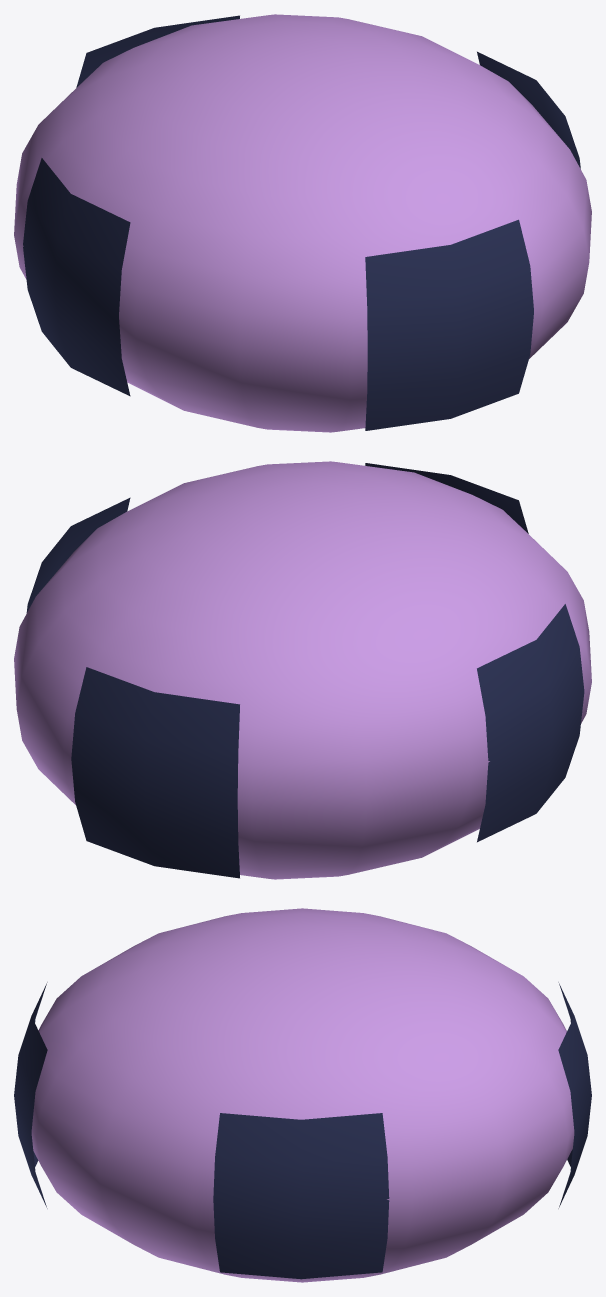
Rendered from hudun.fbx.
3 views of the same model, one above another, from view 1: azimuth 30°, elevation 25°; view 2: azimuth 150°, elevation 25°; view 3: azimuth 270°, elevation 25° (orthographic). The views are drawn at different scales.
Visible parts, largest first — view 1: hudun1, hudun2; view 2: hudun1, hudun2; view 3: hudun1, hudun2.
Boxes of the visible parts, x1,y1,x2,y2 form: hudun1: [14, 14, 591, 432]; hudun2: [23, 15, 580, 430]; hudun1: [14, 461, 591, 879]; hudun2: [26, 463, 584, 878]; hudun1: [31, 908, 574, 1282]; hudun2: [14, 982, 591, 1279].
Bounding box in the file's own units: 216 × 137 × 237.
